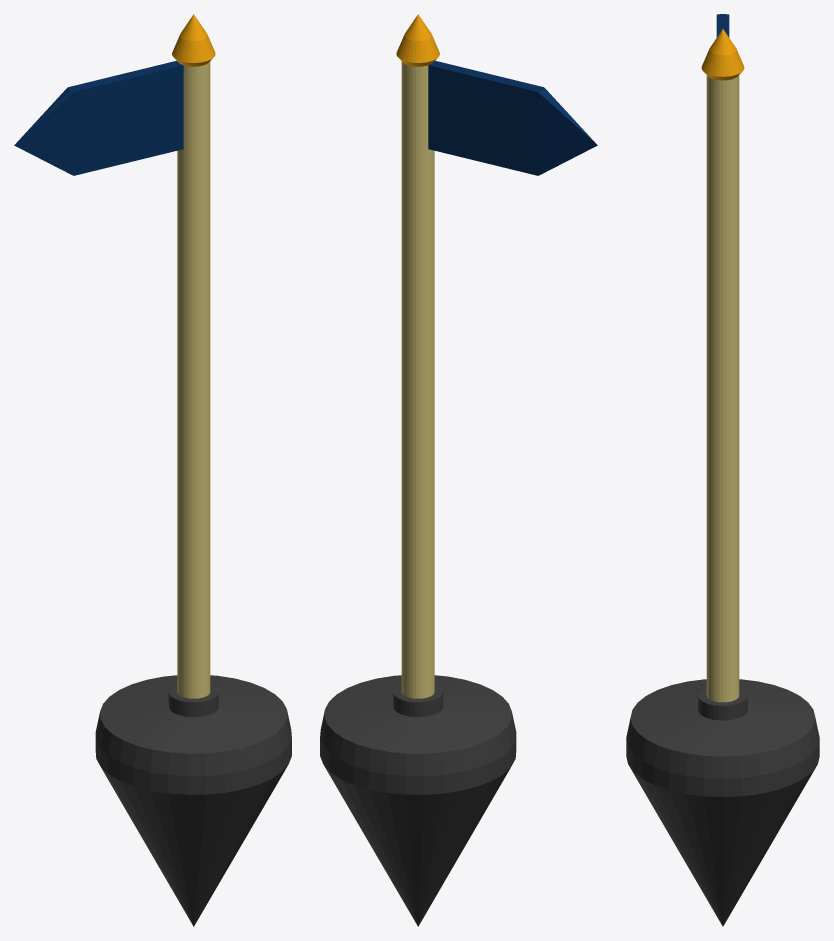
File: SpawnFlag.fbx
3 views of the same model, side by side, from view 1: azimuth 30°, elevation 25°; view 2: azimuth 150°, elevation 25°; view 3: azimuth 270°, elevation 25° (orthographic).
Parts seen in each view (by area): view 1: Cylinder; view 2: Cylinder; view 3: Cylinder.
Boxes of the visible parts, x1,y1,x2,y2 form: Cylinder: (14, 14, 291, 926); Cylinder: (320, 14, 597, 926); Cylinder: (626, 14, 819, 926).
Size of the model in its own units: 104 by 344 by 67.15.
